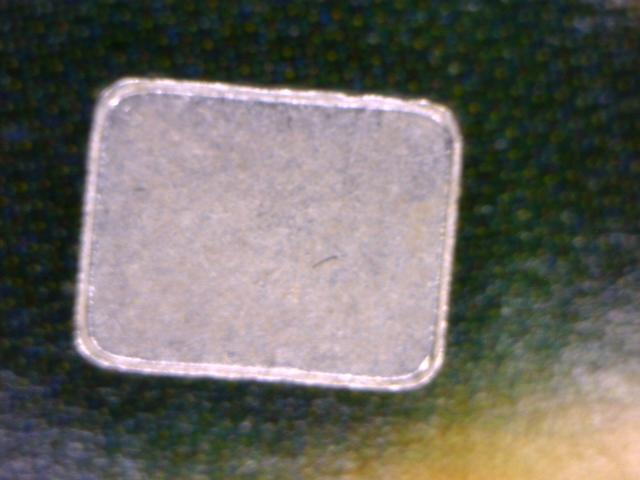nok: (76, 69, 471, 394)
